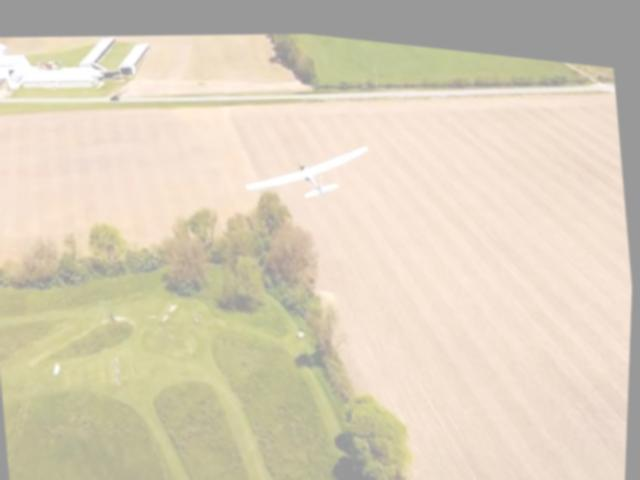iha: (242, 124, 372, 204)
